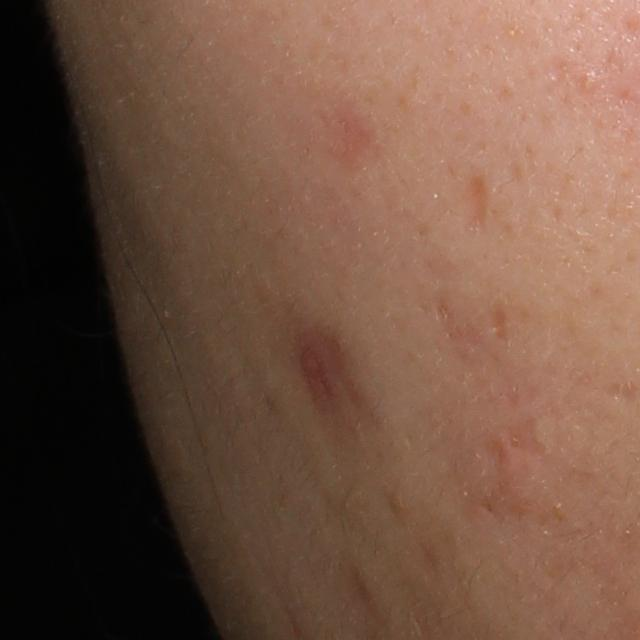atrophic_scar: (267, 302, 385, 461), (465, 168, 496, 233), (494, 298, 509, 349)
comedo: (577, 73, 601, 94)
